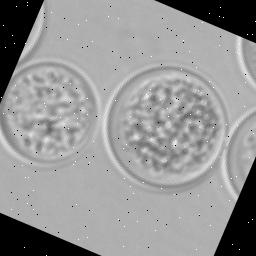picoshell: (100, 64, 226, 190), (0, 58, 100, 169), (219, 107, 256, 199), (17, 3, 44, 61), (233, 36, 256, 91)
